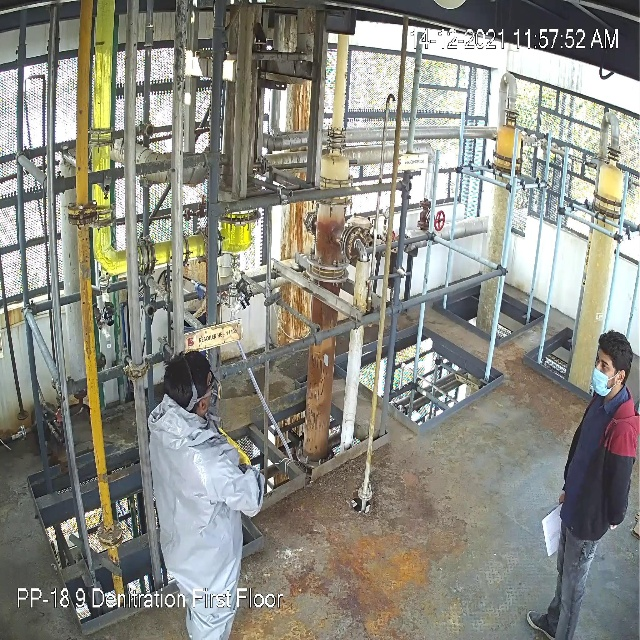Sin_gafas: (593, 352, 616, 375)
